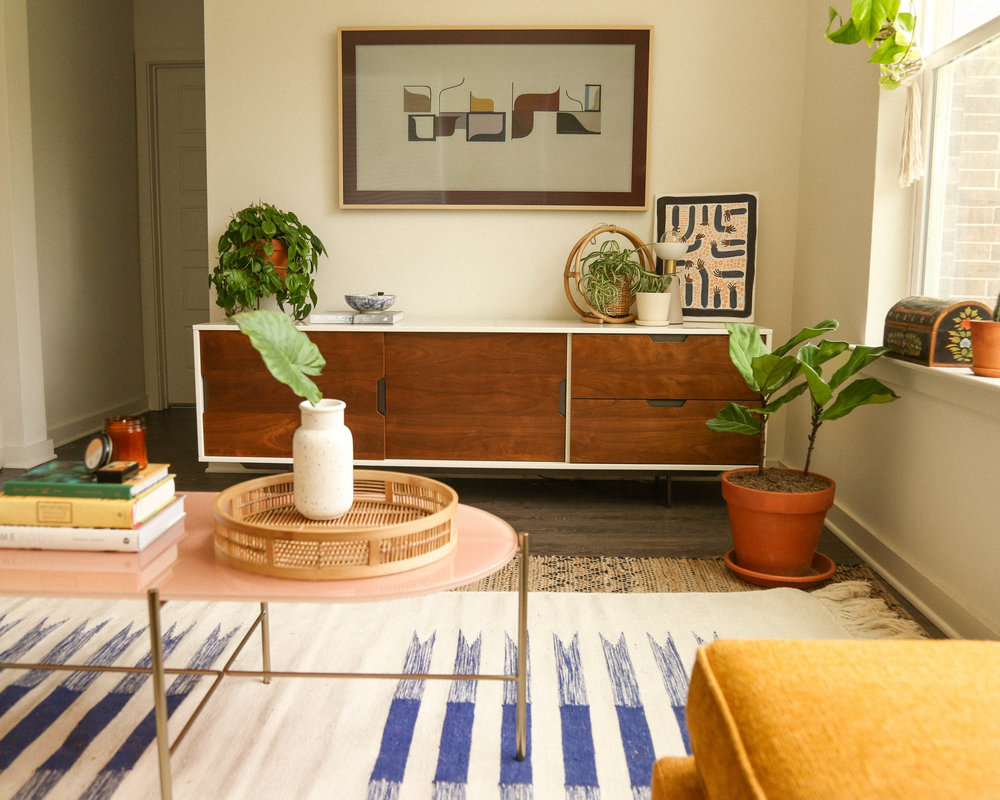coklat: (724, 471, 833, 572), (968, 319, 1000, 377)
orange: (685, 631, 1000, 797)
putih: (295, 402, 354, 516), (637, 292, 670, 329), (657, 241, 687, 260)
